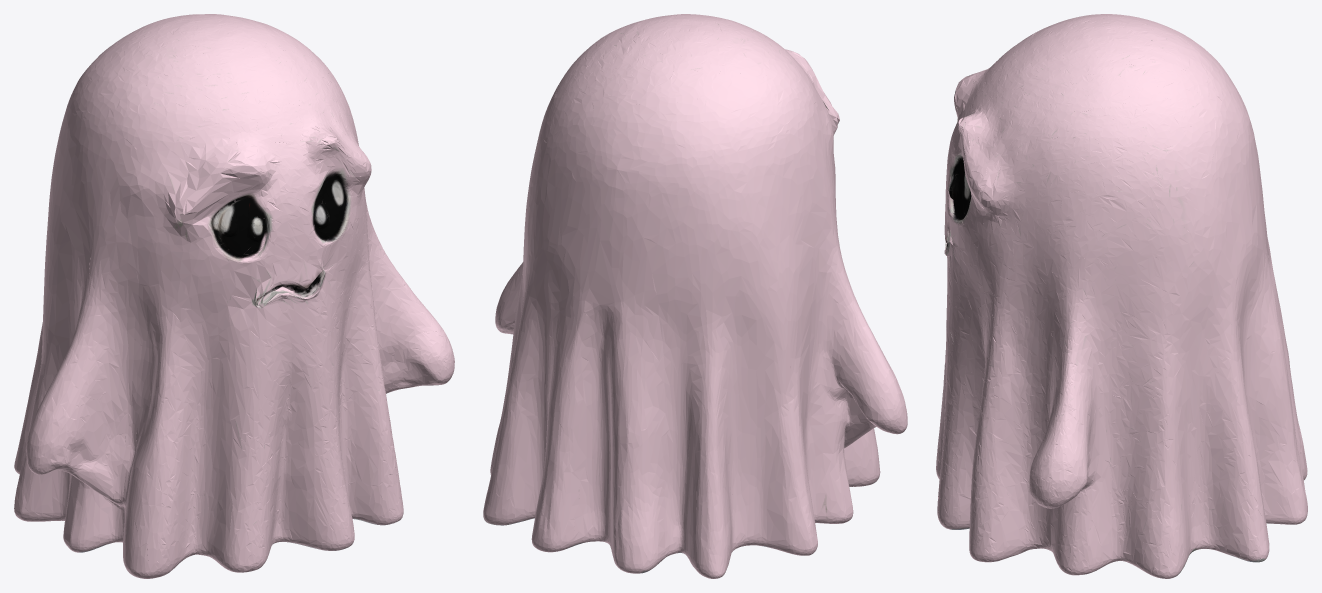
The model's file is fantasma3.glb.
The picture shows the model from 3 angles, left to right: view 1: azimuth 30°, elevation 25°; view 2: azimuth 150°, elevation 25°; view 3: azimuth 270°, elevation 25°; orthographic projection.
Parts seen in each view (by area): view 1: world; view 2: world; view 3: world.
Boxes of the visible parts, box(x1,y1,x2,y2) form: world: box(14, 14, 454, 578); world: box(483, 14, 907, 578); world: box(936, 14, 1307, 578).
Size of the model in its own units: 1.83 by 1.99 by 1.42.
1 material, 1 textured.
